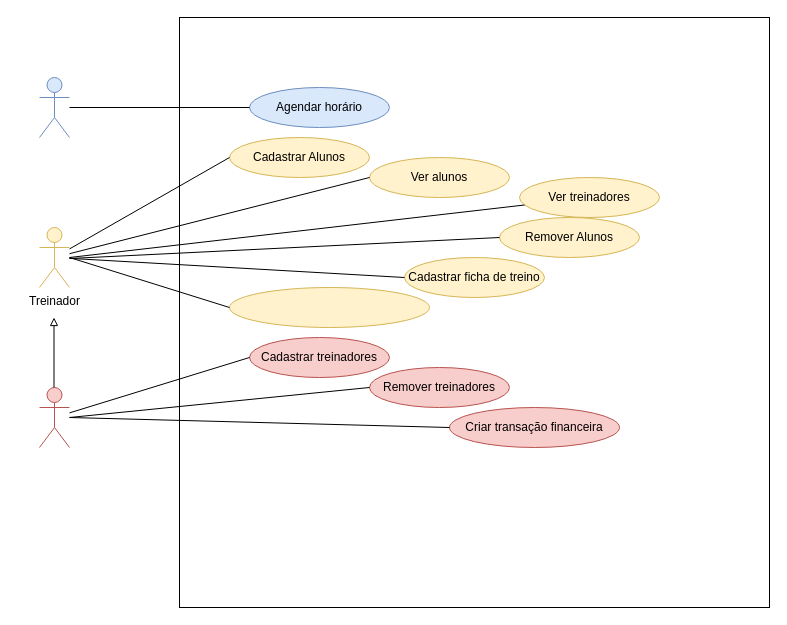
This 787x625 diagram has some shape labels left out. Here are the shapes that lost their labels. From the top down, the centre of each, then its label:
At (x=54, y=107): "Aluno".
At (x=329, y=307): "Associar aluno aficha de treino".
At (x=54, y=417): "Administrador".
